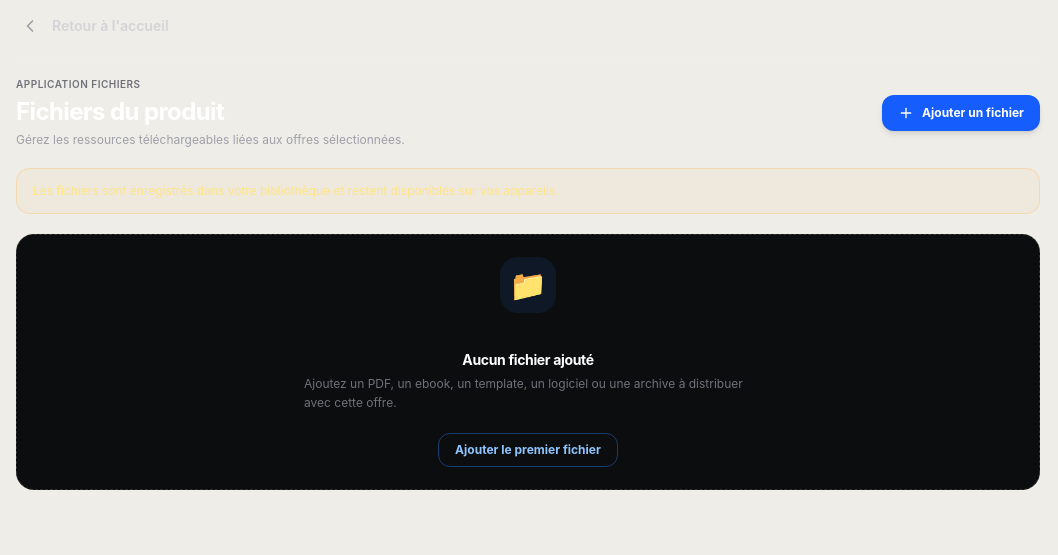
Scenario: navigation catalogue Apps Store vers les workspaces créateur › montre le chargement puis l’erreur et réactive l’action après échec de téléversement
This screenshot has width=1058, height=555.
Later steps or results of the test are not shown.
Step 1. Click the button "Ajouter un fichier" → (961, 112), box x1=882 y1=94 x2=1040 y2=130
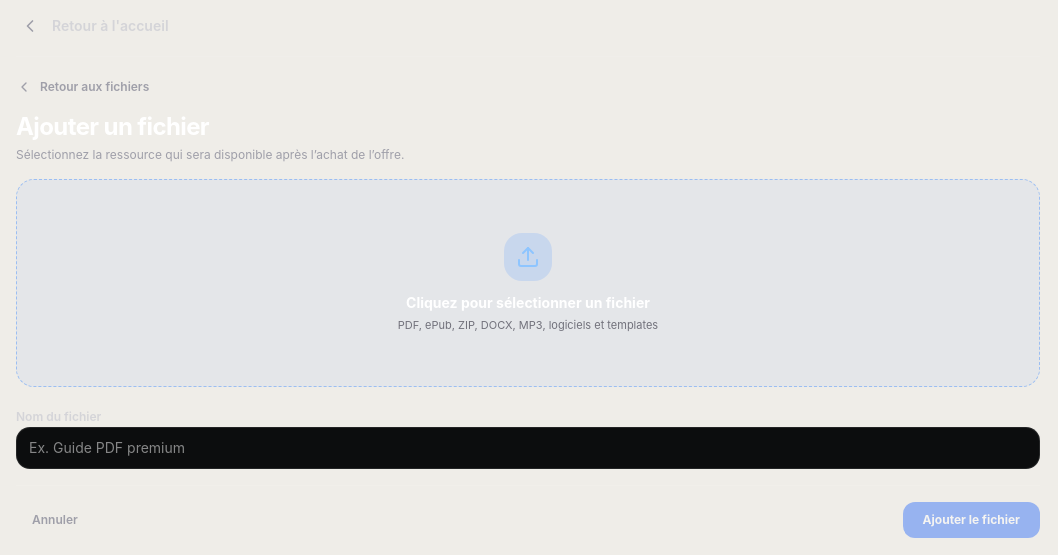
Result: the file field is shown at x1=16 y1=179 x2=1040 y2=387
